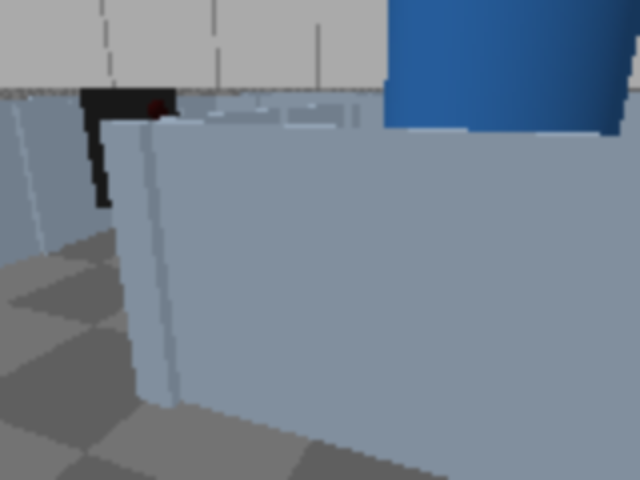person: (380, 0, 638, 351)
